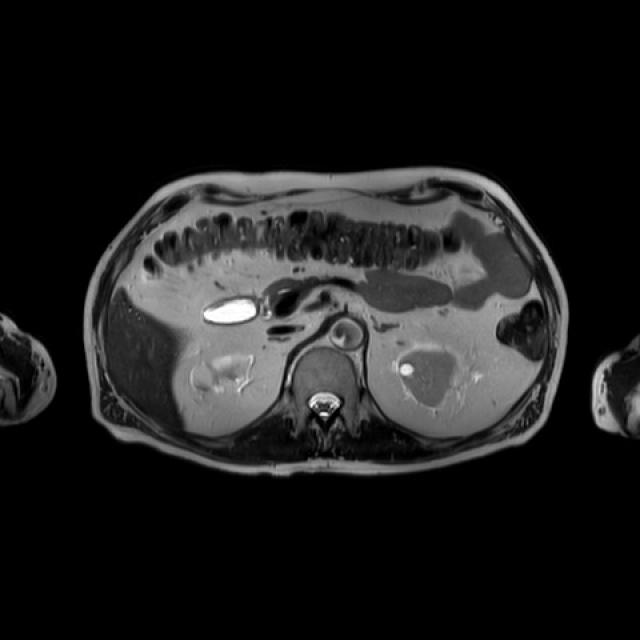sag: (188, 351, 257, 398)
sol: (396, 345, 463, 410), (471, 367, 484, 384)
